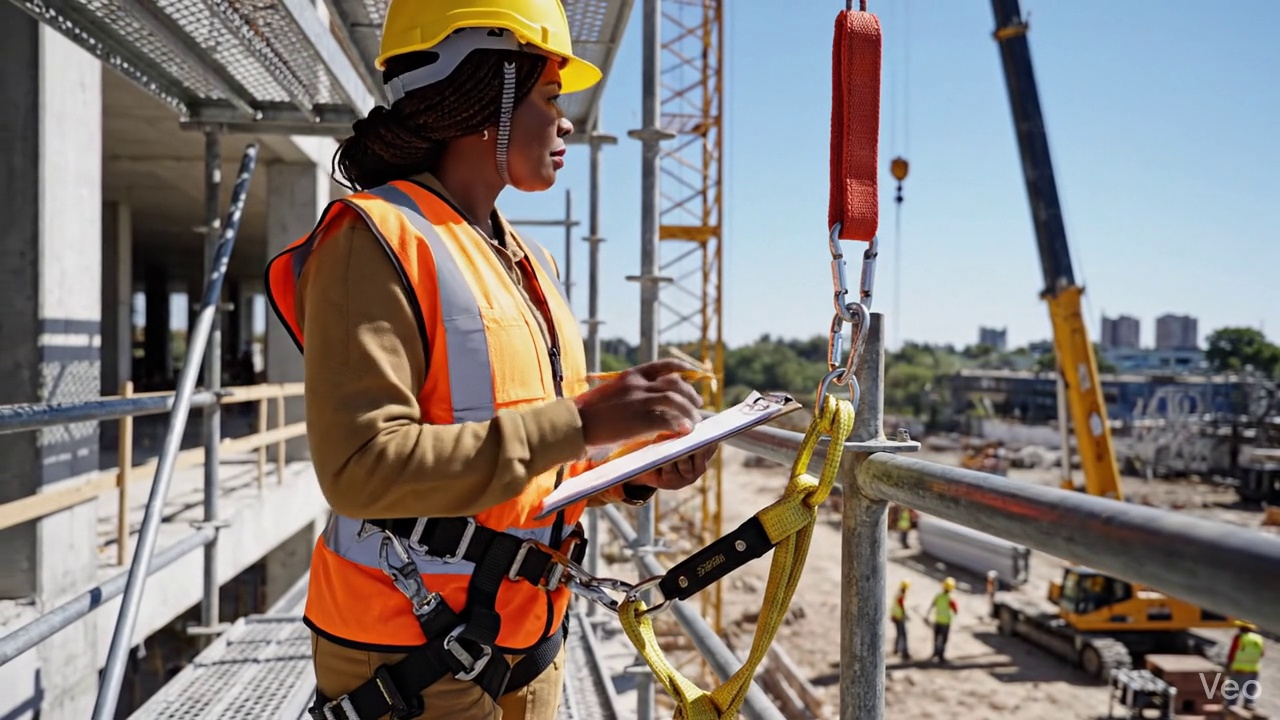p: (268, 0, 698, 719), (589, 449, 712, 504)
